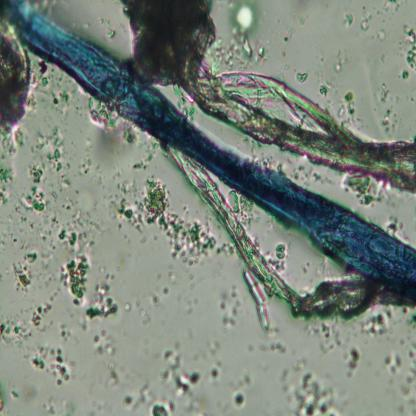Background material: (113, 175, 215, 261), (77, 110, 138, 185), (278, 358, 347, 416), (22, 126, 64, 212), (218, 2, 260, 68), (0, 300, 51, 346), (46, 209, 95, 251), (382, 338, 416, 394), (29, 62, 69, 108), (160, 347, 200, 392), (124, 383, 176, 416), (31, 345, 70, 387), (85, 273, 118, 320), (60, 256, 90, 305), (345, 173, 386, 206), (12, 247, 39, 296), (217, 282, 243, 330), (363, 307, 396, 338), (132, 138, 160, 171), (401, 23, 416, 80), (336, 88, 360, 121), (341, 343, 361, 381), (0, 130, 25, 159), (92, 328, 116, 358), (231, 375, 252, 409), (250, 337, 292, 354), (0, 166, 17, 208), (267, 245, 287, 271), (107, 364, 121, 389), (209, 358, 222, 383), (58, 322, 72, 342), (295, 70, 311, 84), (342, 12, 354, 24)
Cellulose filter fibre: (132, 2, 416, 196), (170, 153, 356, 324), (0, 17, 30, 132)
Cotton: (0, 2, 416, 298)
